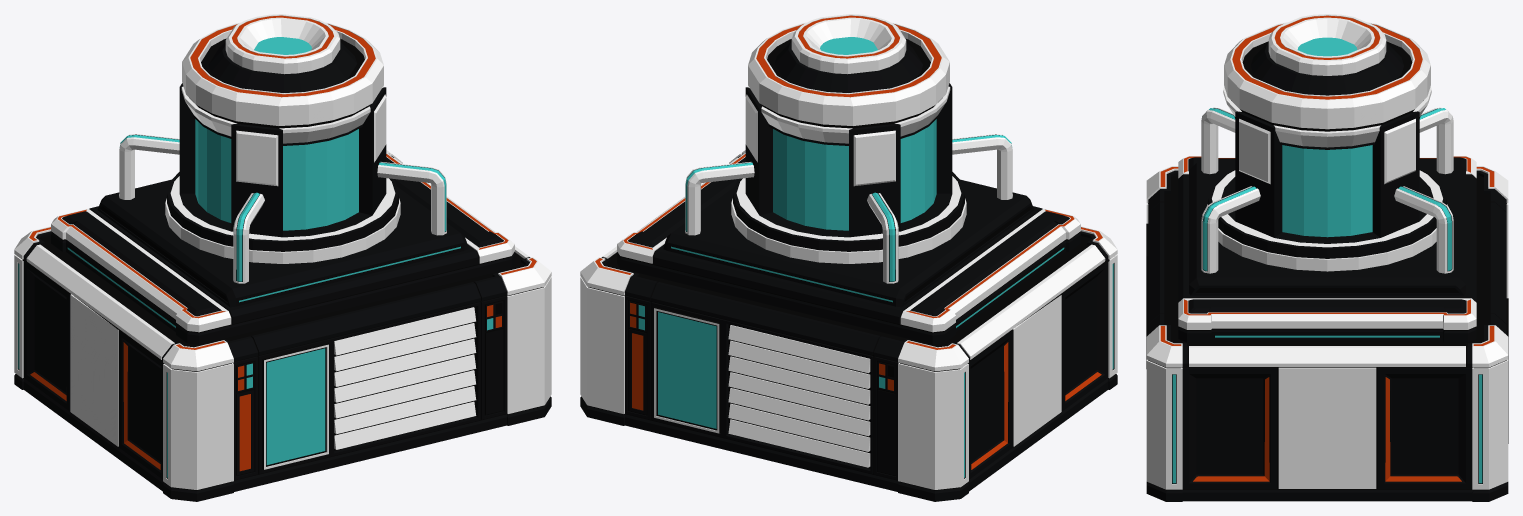
The model's file is SM_Nuclear_T2.obj.
The picture shows the model from 3 angles, left to right: view 1: azimuth 30°, elevation 25°; view 2: azimuth 150°, elevation 25°; view 3: azimuth 270°, elevation 25°; orthographic projection. The views are drawn at different scales.
Visible parts, largest first — view 1: SM_Nuclear_T2; view 2: SM_Nuclear_T2; view 3: SM_Nuclear_T2.
Boxes of the visible parts, x1,y1,x2,y2 form: SM_Nuclear_T2: (14, 14, 551, 501); SM_Nuclear_T2: (580, 14, 1117, 501); SM_Nuclear_T2: (1146, 14, 1508, 501).
Size of the model in its own units: 2.5 by 2.25 by 2.
